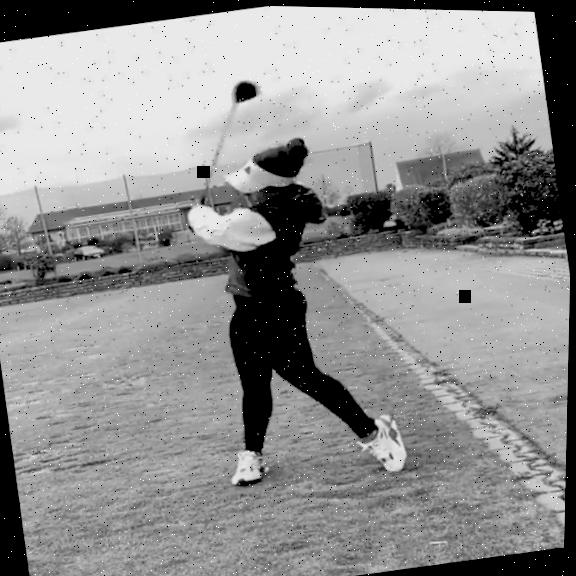ClubHead: (231, 76, 261, 105)
